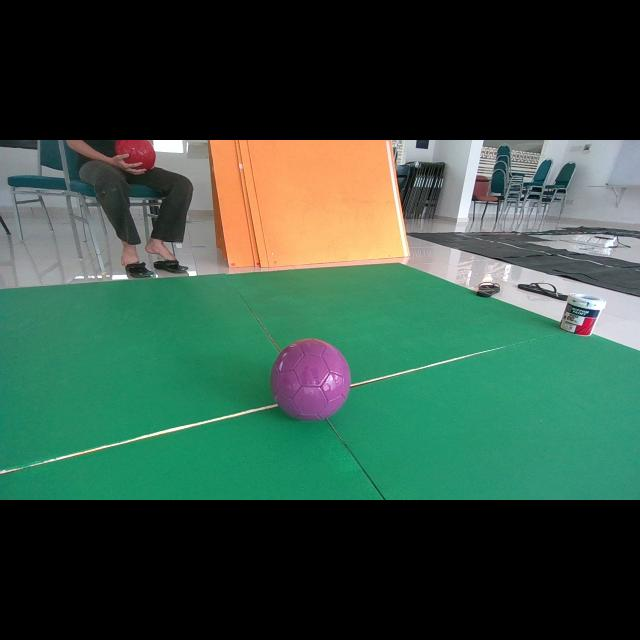P: (271, 339, 350, 420), (115, 140, 156, 169)
